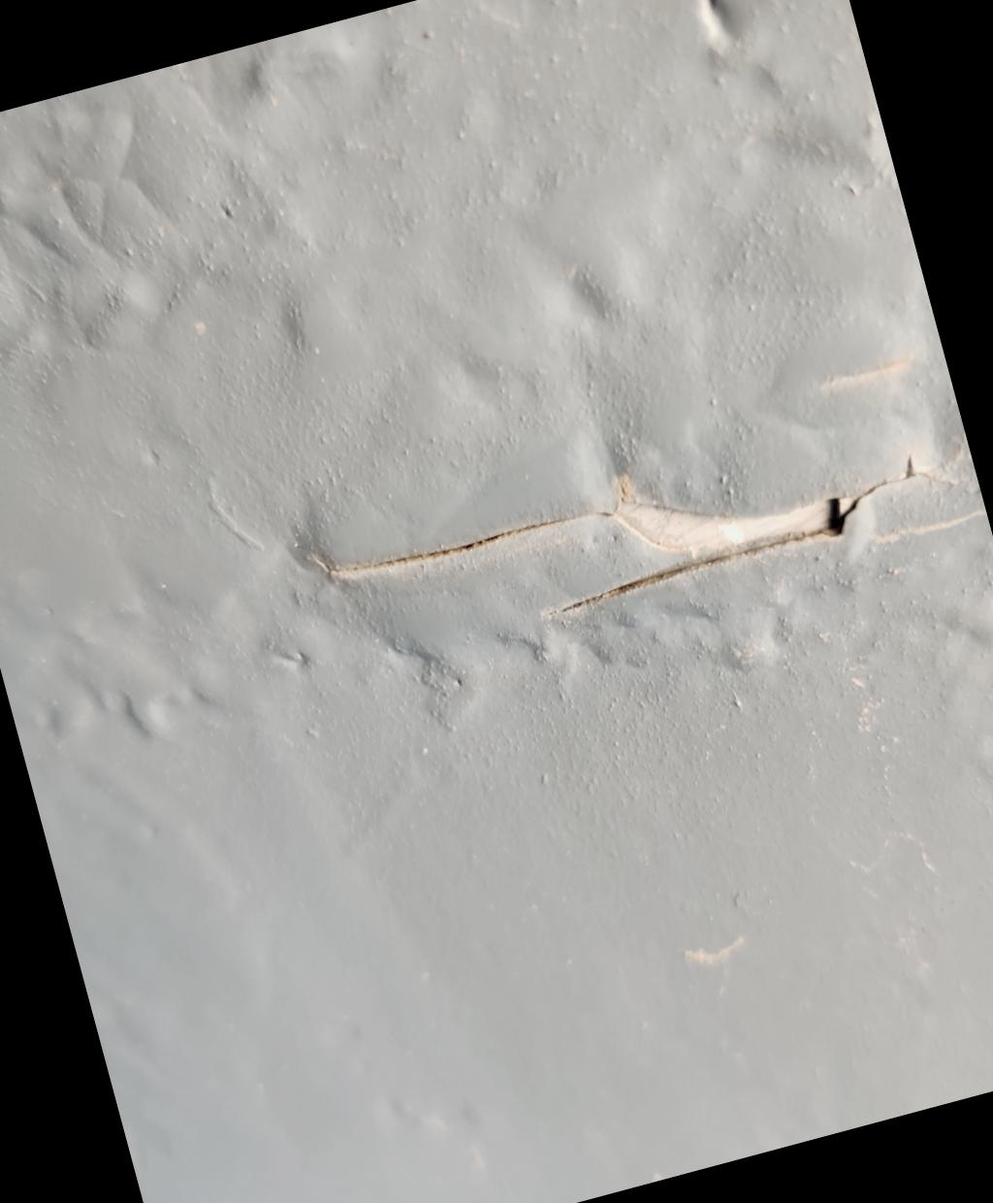crack: (276, 357, 978, 731)
